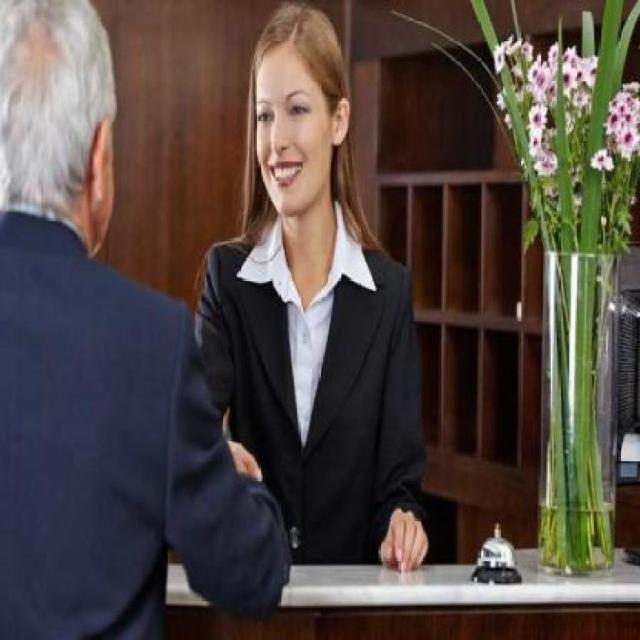frontdesk: (0, 515, 639, 640)
